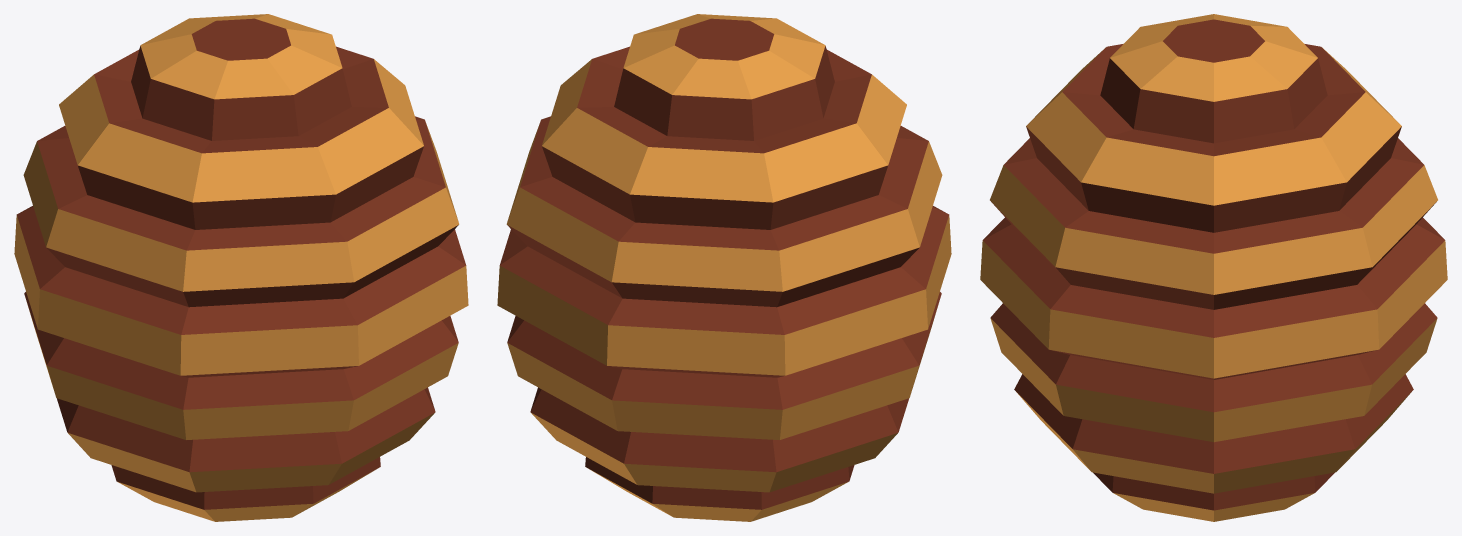
The model's file is beehive1.fbx.
3 renders of one model, left to right at view 1: azimuth 30°, elevation 25°; view 2: azimuth 150°, elevation 25°; view 3: azimuth 270°, elevation 25°, orthographic.
Visible parts, largest first — view 1: beehive1.001; view 2: beehive1.001; view 3: beehive1.001.
Boxes of the visible parts, x1,y1,x2,y2 form: beehive1.001: (14,14,468,521); beehive1.001: (497,14,951,521); beehive1.001: (980,14,1447,521).
Bounding box in the file's own units: 106 × 110 × 106.
